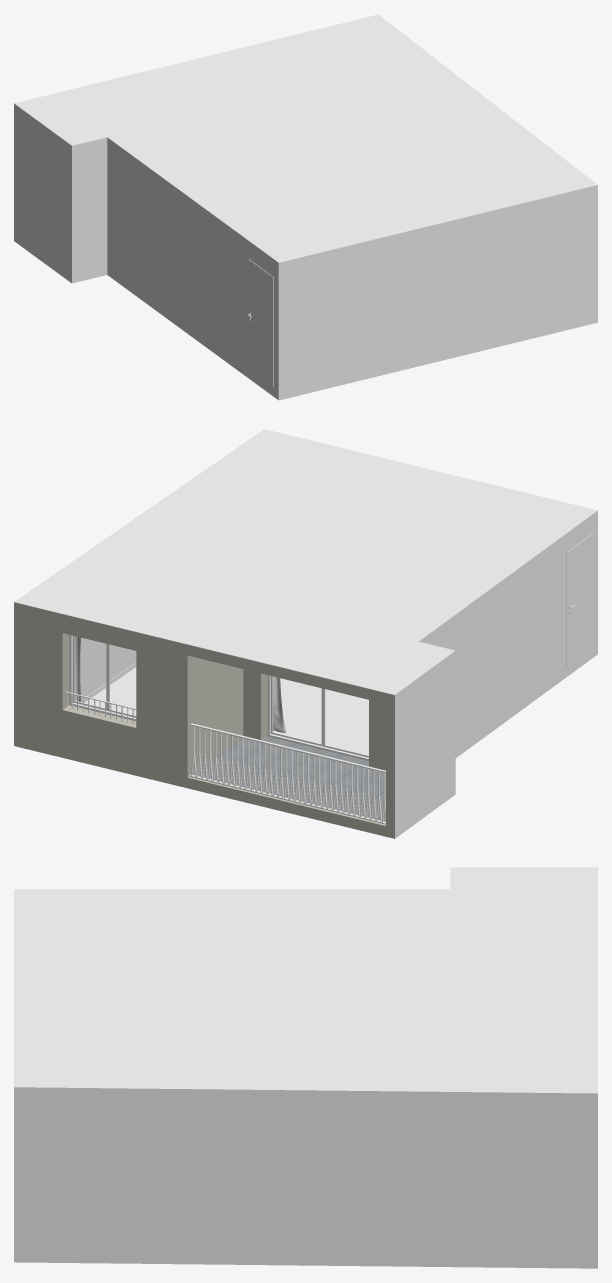
Rendered from 4_B_baking_hdr.gltf.
The picture shows the model from 3 angles, top to bottom: view 1: azimuth 30°, elevation 25°; view 2: azimuth 150°, elevation 25°; view 3: azimuth 270°, elevation 25°; orthographic projection. The views are drawn at different scales.
Parts seen in each view (by area): view 1: masonry_01, ceiling_01, door_01; view 2: ceiling_01, masonry_01, railing_triangle_01, ground_terrace_01, ground_living_01, door_01, french_window_doble_right_01, ground_bed_01, curtain_01; view 3: ceiling_01, masonry_01.
Boxes of the visible parts, box(x1,y1,x2,y2) form: masonry_01: box(14, 104, 597, 400); ceiling_01: box(14, 14, 597, 262); door_01: box(248, 259, 273, 386); ceiling_01: box(14, 429, 597, 695); masonry_01: box(14, 511, 597, 838); railing_triangle_01: box(189, 723, 385, 824); ground_terrace_01: box(192, 736, 385, 821); ground_living_01: box(273, 682, 368, 755); door_01: box(566, 533, 593, 666); french_window_doble_right_01: box(69, 634, 368, 761); ground_bed_01: box(84, 667, 296, 715); curtain_01: box(273, 676, 286, 732); ceiling_01: box(14, 867, 597, 1093); masonry_01: box(14, 1088, 597, 1268).
Size of the model in its own units: 7.5 by 2.71 by 8.19.
6 materials, 3 textured.
